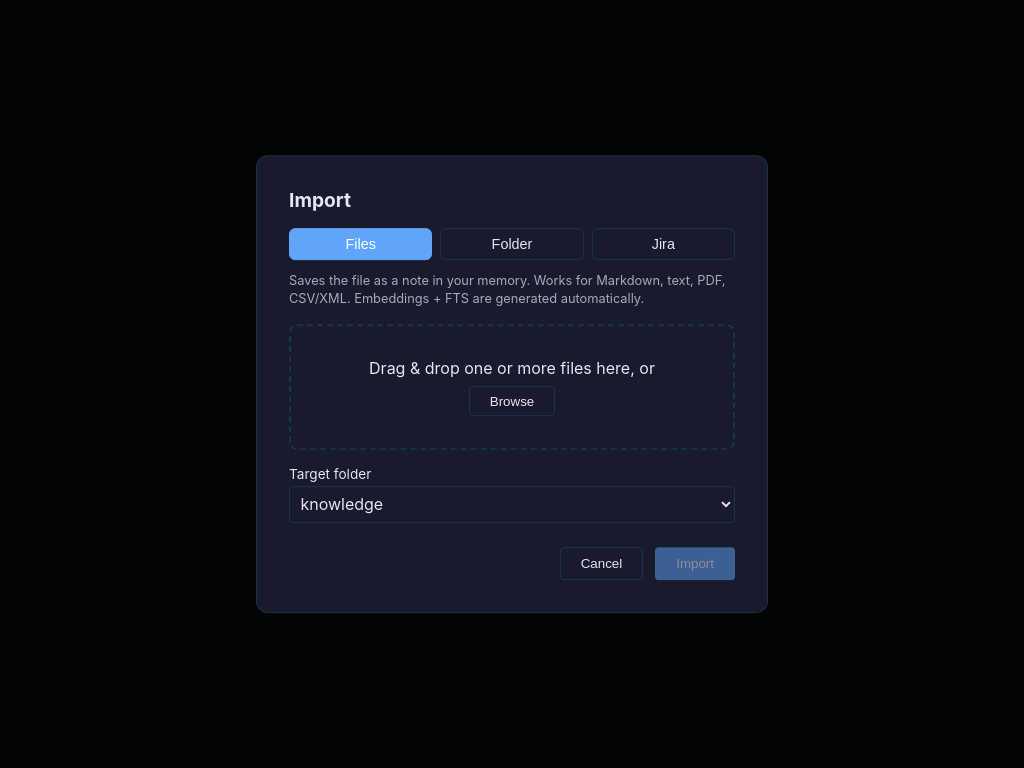
components/ImportDialog.vue › folder mode shows source picker and hides file dropzone
The width and height of the screenshot is (1024, 768).
Click the button with class "import-dialog__mode-btn" showing "Folder": (512, 244) [440,228,584,260]
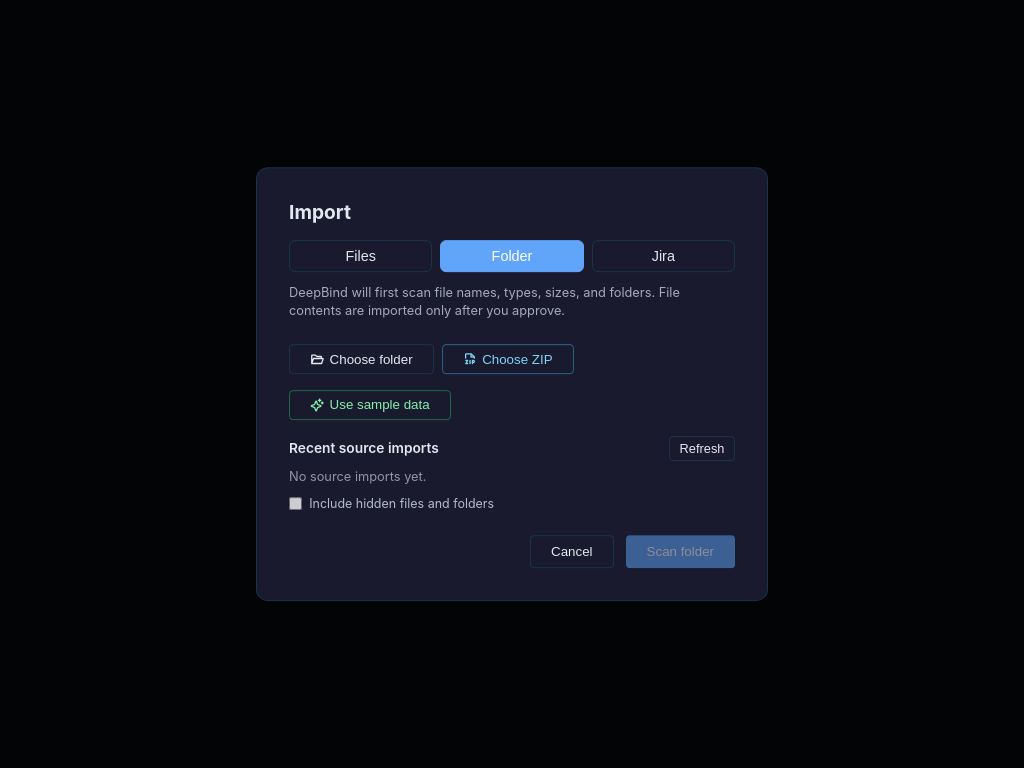
Check: the element with class "import-dialog__source" is shown, box [289,336,735,511]
Check: the text with class "import-dialog__hint" shows "File contents are imported only after you approve", box [289,286,680,318]
